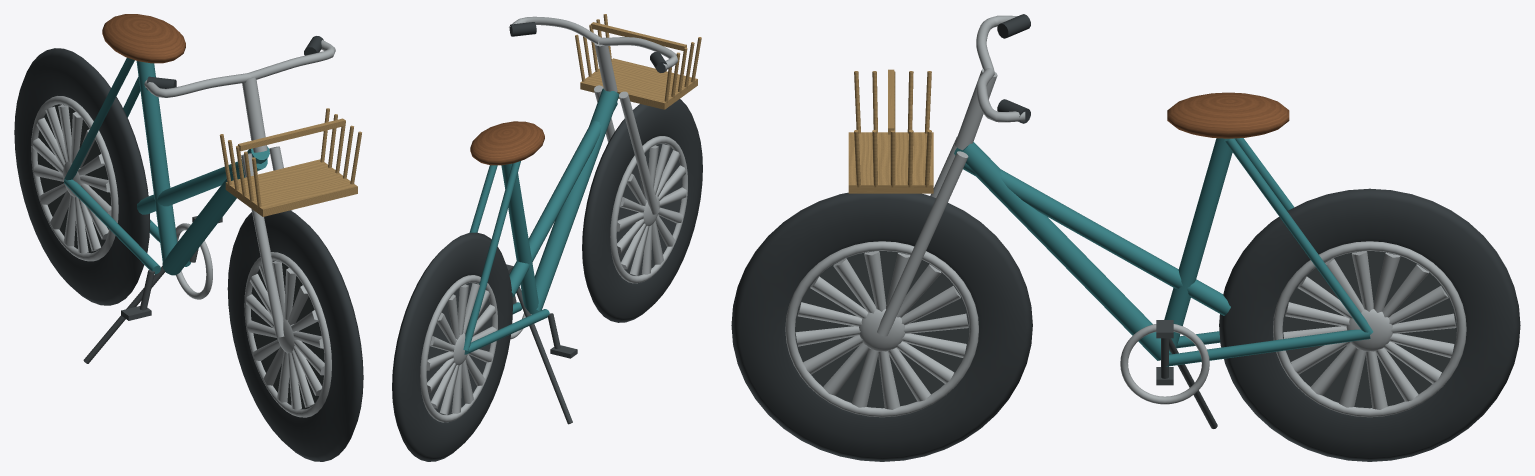
The model's file is veh_bike_basket-352c0ffd2390.glb.
3 renders of one model, left to right at view 1: azimuth 30°, elevation 25°; view 2: azimuth 150°, elevation 25°; view 3: azimuth 270°, elevation 25°, orthographic. The views are drawn at different scales.
Visible parts, largest first — view 1: surface_rubber (×3), surface_steel (×4), surface_#387e83, surface_bamboo, surface_graphite (×3), surface_walnut; view 2: surface_rubber (×3), surface_steel (×3), surface_#387e83, surface_bamboo, surface_graphite (×3), surface_walnut; view 3: surface_rubber (×3), surface_steel (×4), surface_#387e83, surface_graphite (×3), surface_bamboo, surface_walnut.
Boxes of the visible parts, x1,y1,x2,y2 form: surface_rubber (×3): [14, 36, 363, 461]; surface_steel (×4): [31, 40, 335, 417]; surface_#387e83: [64, 57, 269, 275]; surface_bamboo: [219, 108, 361, 216]; surface_graphite (×3): [37, 104, 324, 409]; surface_walnut: [102, 14, 185, 63]; surface_rubber (×3): [392, 22, 702, 461]; surface_steel (×3): [420, 16, 687, 422]; surface_#387e83: [463, 88, 618, 354]; surface_bamboo: [575, 14, 701, 109]; surface_graphite (×3): [426, 143, 682, 424]; surface_walnut: [470, 121, 544, 165]; surface_rubber (×3): [731, 14, 1520, 461]; surface_steel (×4): [785, 15, 1466, 417]; surface_#387e83: [954, 138, 1373, 366]; surface_graphite (×3): [795, 251, 1456, 428]; surface_bamboo: [848, 69, 933, 193]; surface_walnut: [1167, 92, 1289, 138].
Size of the model in its own units: 0.5344 by 0.996 by 1.76.
6 materials, 2 textured.
